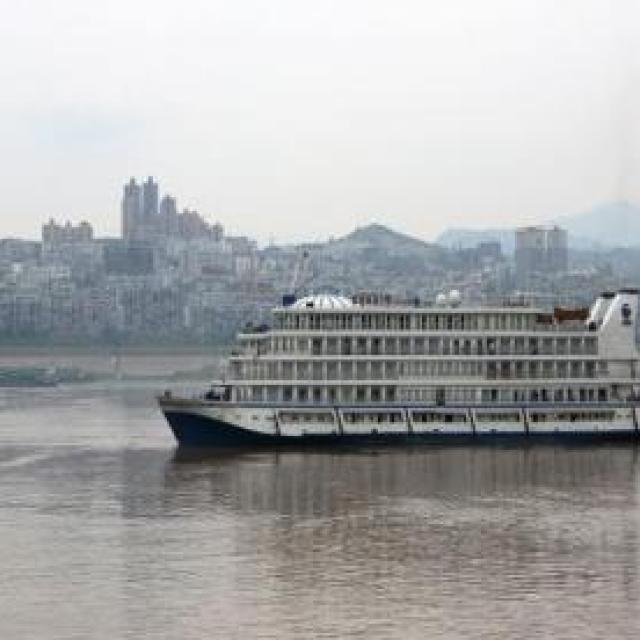passenger ship: (153, 276, 640, 445)
